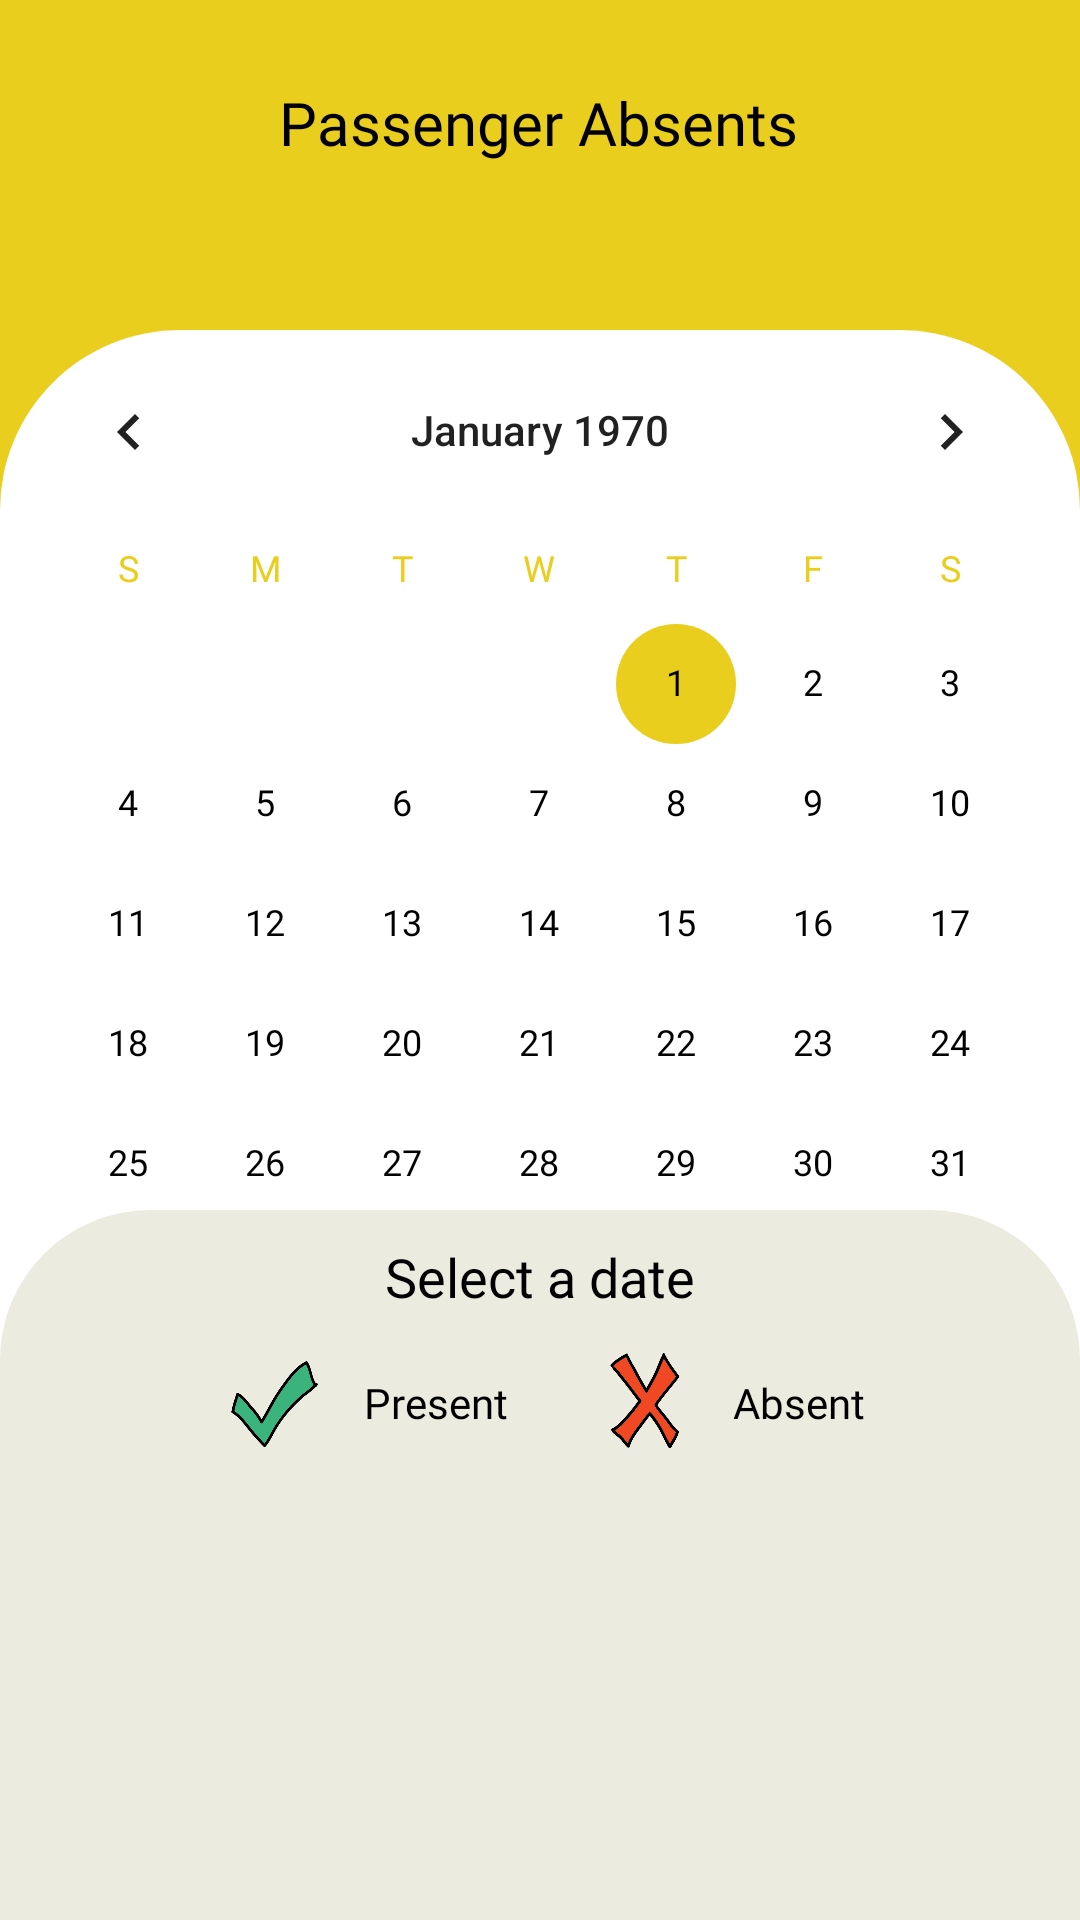

Where icons sit on this 1080px x 1920px app screen, as (x1, y1, x2, y2):
check: (231, 1361, 318, 1447)
false: (610, 1353, 679, 1448)
